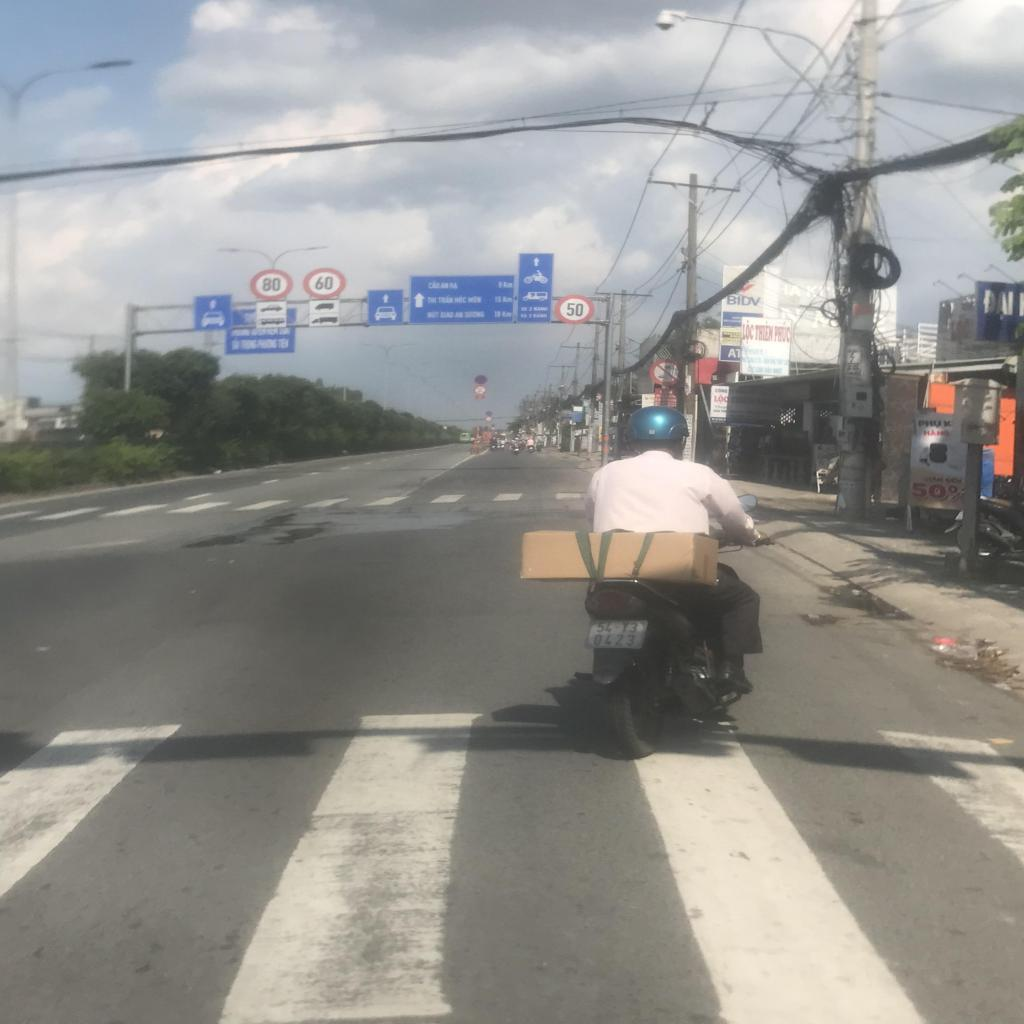cam_cac_loai_xe_3_banh: (648, 358, 680, 385)
cam_dung_xe_va_do_xe: (475, 374, 488, 384), (485, 411, 493, 416)
cam_xe_2_banh_va_xe_3_banh_co_dong_co: (476, 386, 486, 394), (485, 417, 493, 421)
duong_cho_xe_o_to: (368, 289, 404, 325), (194, 295, 230, 330)
khac: (408, 275, 513, 324), (517, 254, 554, 322)
object: (554, 294, 594, 326)
toc_do_toi_da_60: (301, 268, 346, 299)
toc_do_toi_da_80: (249, 270, 293, 300)
